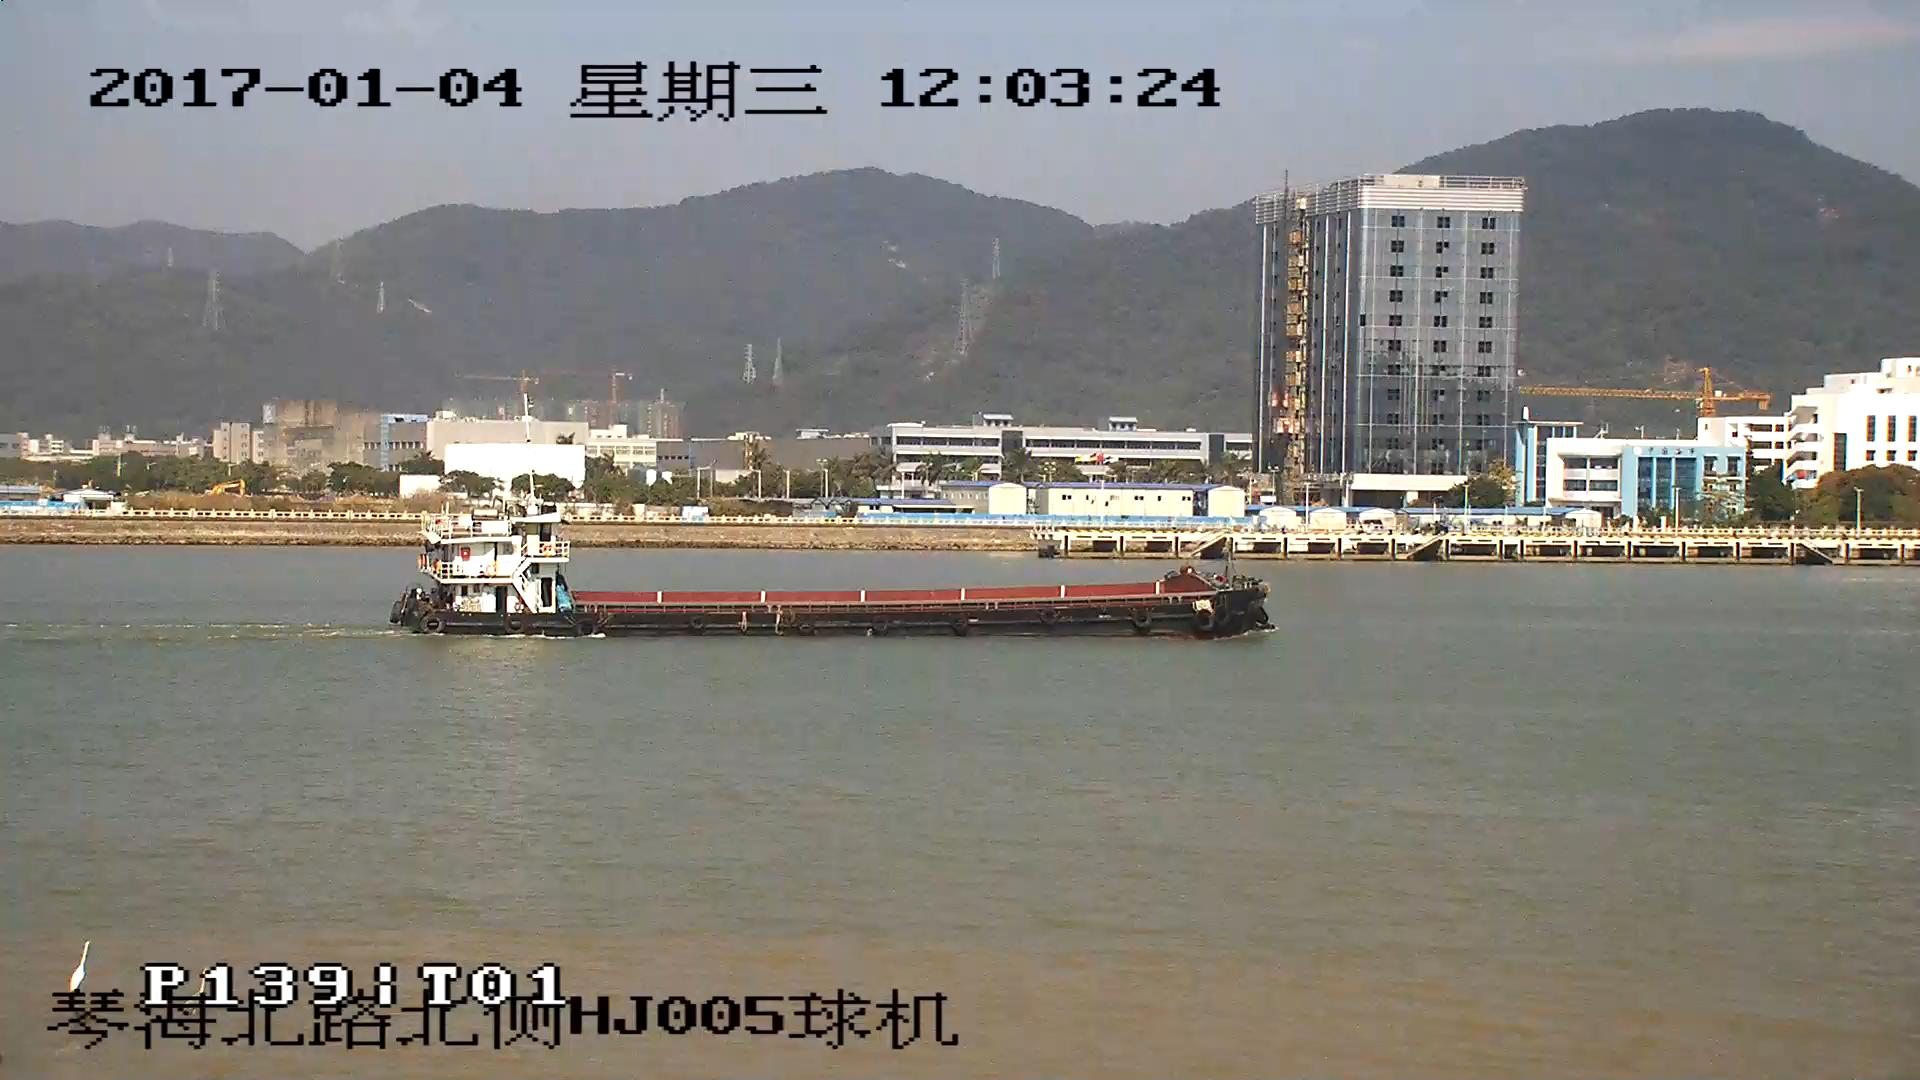general cargo ship: (390, 506, 1274, 642)
